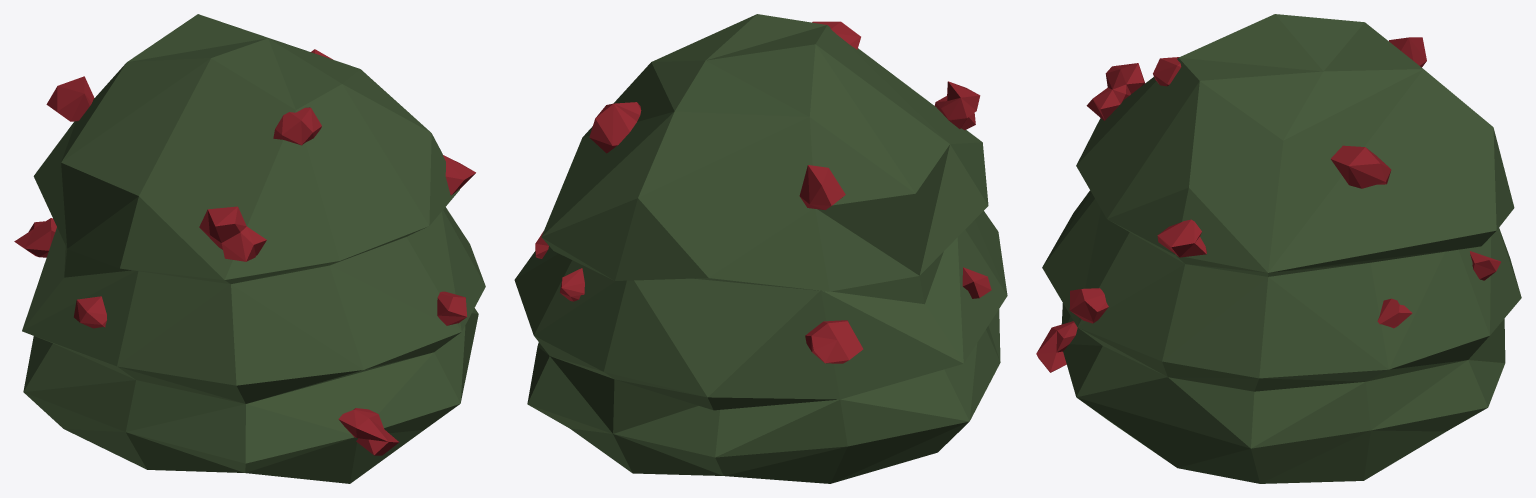
Rendered from plant_bush_berries.glb.
3 renders of one model, left to right at view 1: azimuth 30°, elevation 25°; view 2: azimuth 150°, elevation 25°; view 3: azimuth 270°, elevation 25°, orthographic. The views are drawn at different scales.
Visible parts, largest first — view 1: plant_bush_berries; view 2: plant_bush_berries; view 3: plant_bush_berries.
Part boxes in pixels (x1,y1,x2,y2): plant_bush_berries: (14,14,485,483); plant_bush_berries: (514,14,1007,483); plant_bush_berries: (1036,14,1521,483).
Size of the model in its own units: 1.5 by 1.27 by 1.49.
